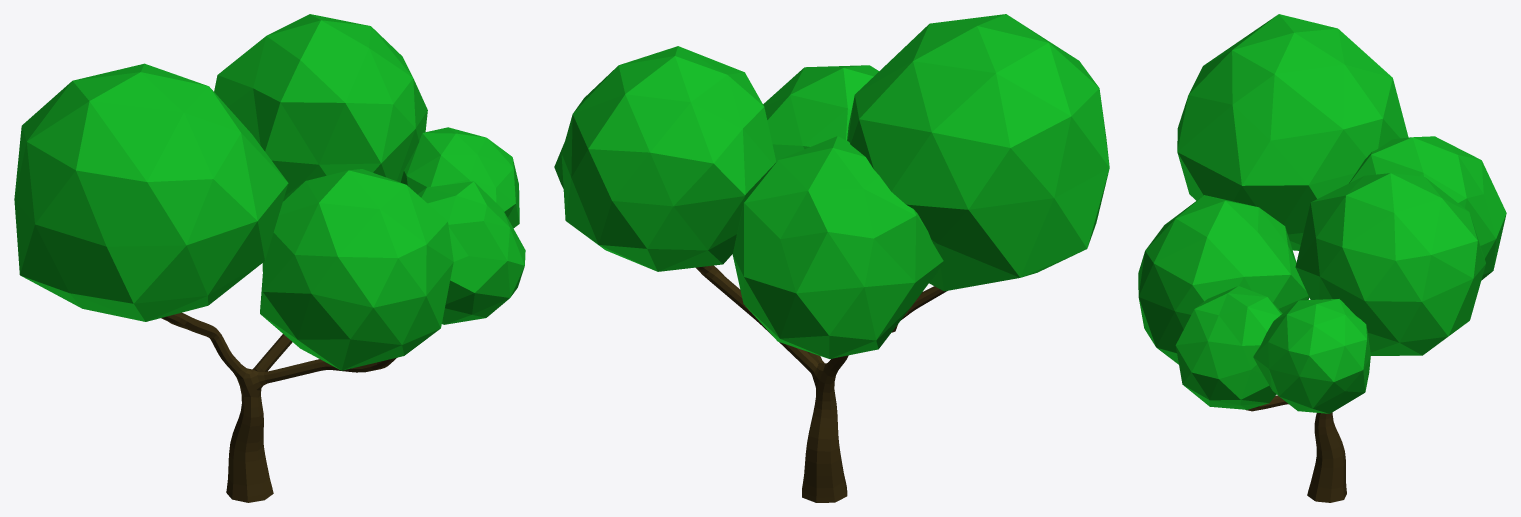
The model's file is tree.glb.
3 renders of one model, left to right at view 1: azimuth 30°, elevation 25°; view 2: azimuth 150°, elevation 25°; view 3: azimuth 270°, elevation 25°, orthographic. The views are drawn at different scales.
Visible parts, largest first — view 1: Icosphere; view 2: Icosphere; view 3: Icosphere.
Part boxes in pixels (left/top/right/bottom): Icosphere: left=14, top=14, right=525, bottom=502; Icosphere: left=554, top=14, right=1109, bottom=502; Icosphere: left=1138, top=14, right=1506, bottom=502.
Size of the model in its own units: 14.35 by 12.85 by 10.48.
1 material, 1 textured.
